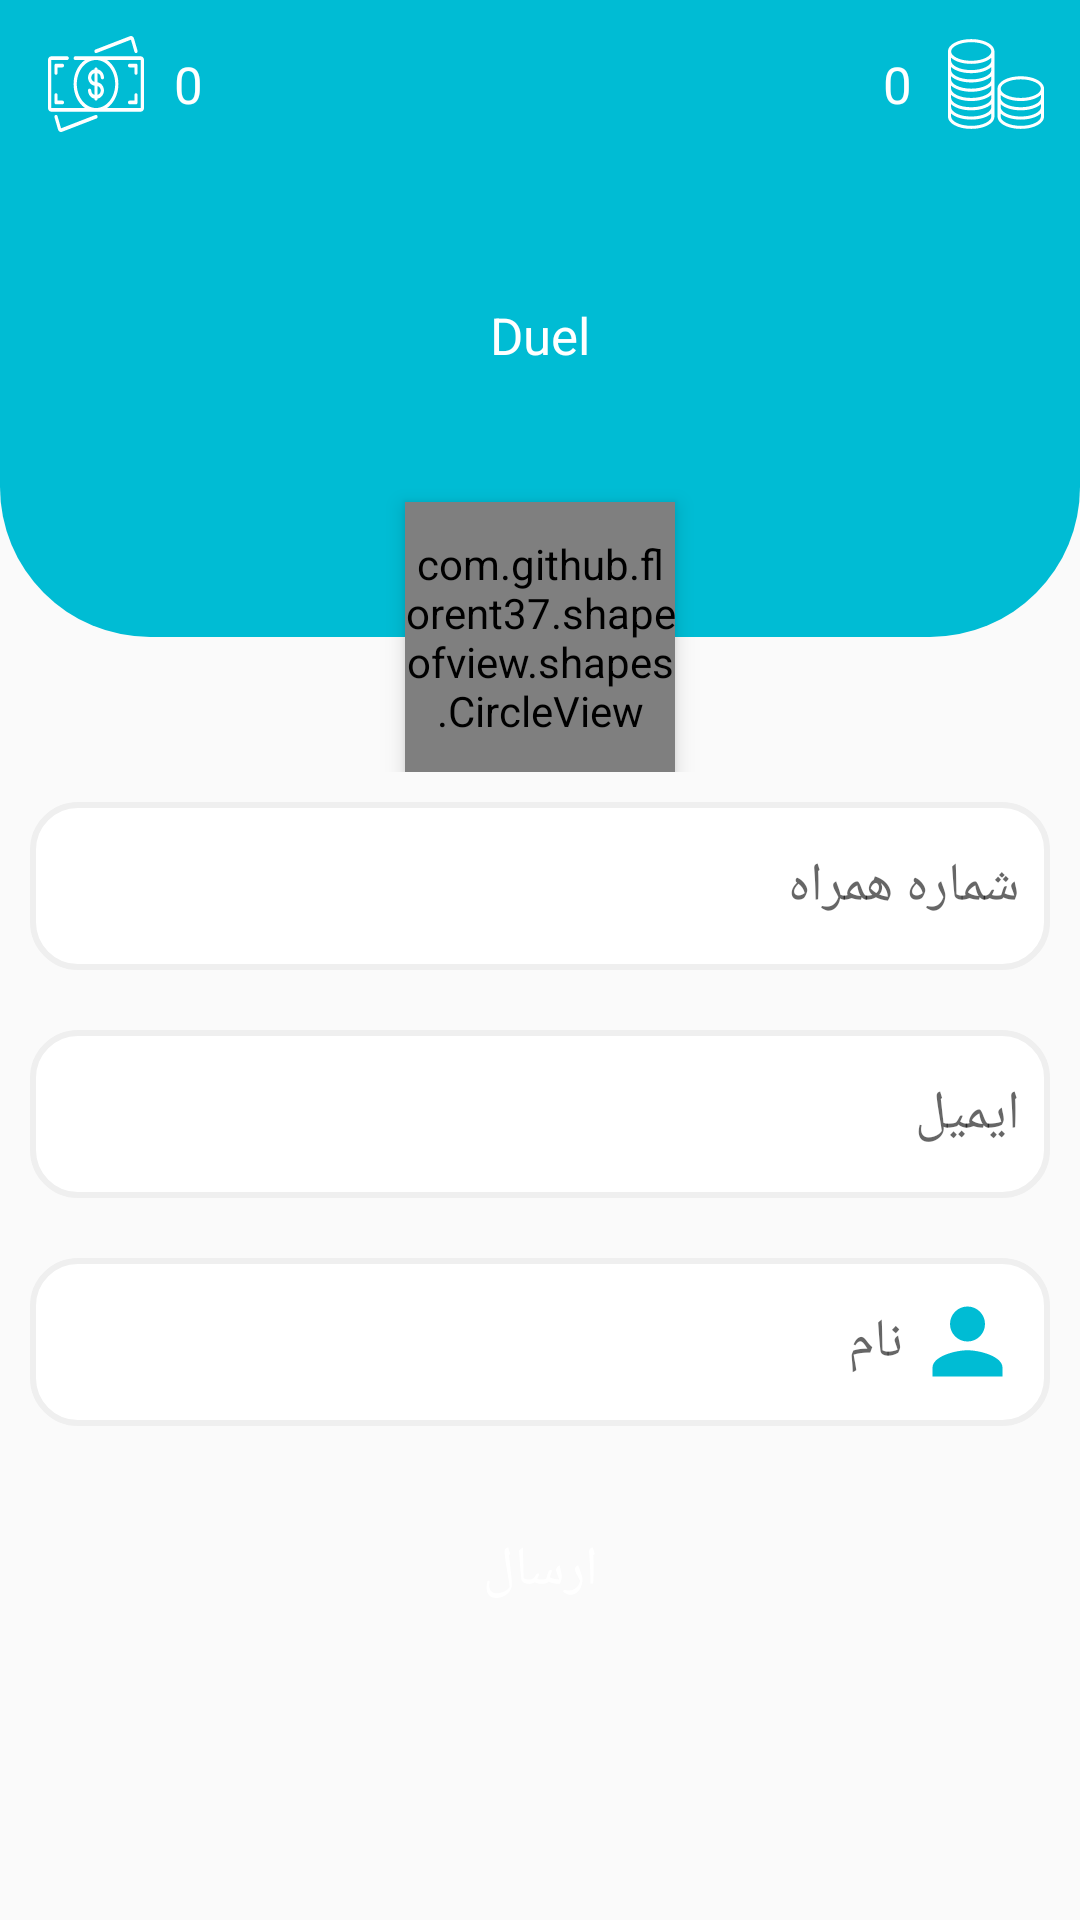

Named icons in this screenshot (1080px×1920px) and their centers, point (x, y):
cash: point (96, 84)
coins: point (996, 84)
